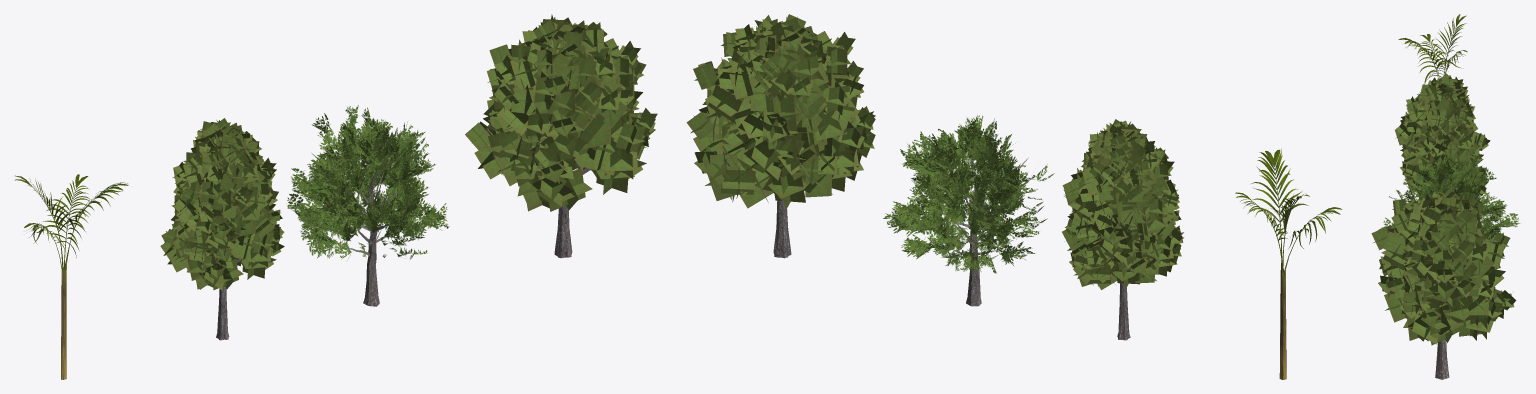
File: 05_SM_Trees.glb
3 views of the same model, side by side, from view 1: azimuth 30°, elevation 25°; view 2: azimuth 150°, elevation 25°; view 3: azimuth 270°, elevation 25° (orthographic). The views are drawn at different scales.
Visible parts, largest first — view 1: SM_Tree_03, SM_Tree_04, SM_Tree_02, SM_Tree_01; view 2: SM_Tree_03, SM_Tree_02, SM_Tree_04, SM_Tree_01; view 3: SM_Tree_03, SM_Tree_02, SM_Tree_04, SM_Tree_01.
Part boxes in pixels (x1,y1,x2,y2): SM_Tree_03: [465, 14, 657, 258]; SM_Tree_04: [286, 105, 449, 306]; SM_Tree_02: [160, 118, 284, 340]; SM_Tree_01: [14, 174, 128, 379]; SM_Tree_03: [686, 14, 875, 258]; SM_Tree_02: [1062, 119, 1183, 340]; SM_Tree_04: [883, 115, 1054, 306]; SM_Tree_01: [1235, 148, 1342, 379]; SM_Tree_03: [1371, 188, 1516, 379]; SM_Tree_02: [1395, 73, 1490, 199]; SM_Tree_04: [1383, 152, 1520, 241]; SM_Tree_01: [1398, 14, 1467, 84].
Bounding box in the file's own units: 1.55 × 0.5518 × 0.4052.
4 materials, 4 textured.
